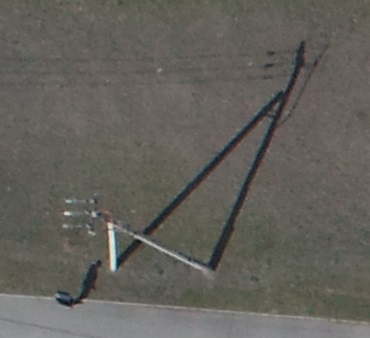opora: (62, 185, 260, 276)
